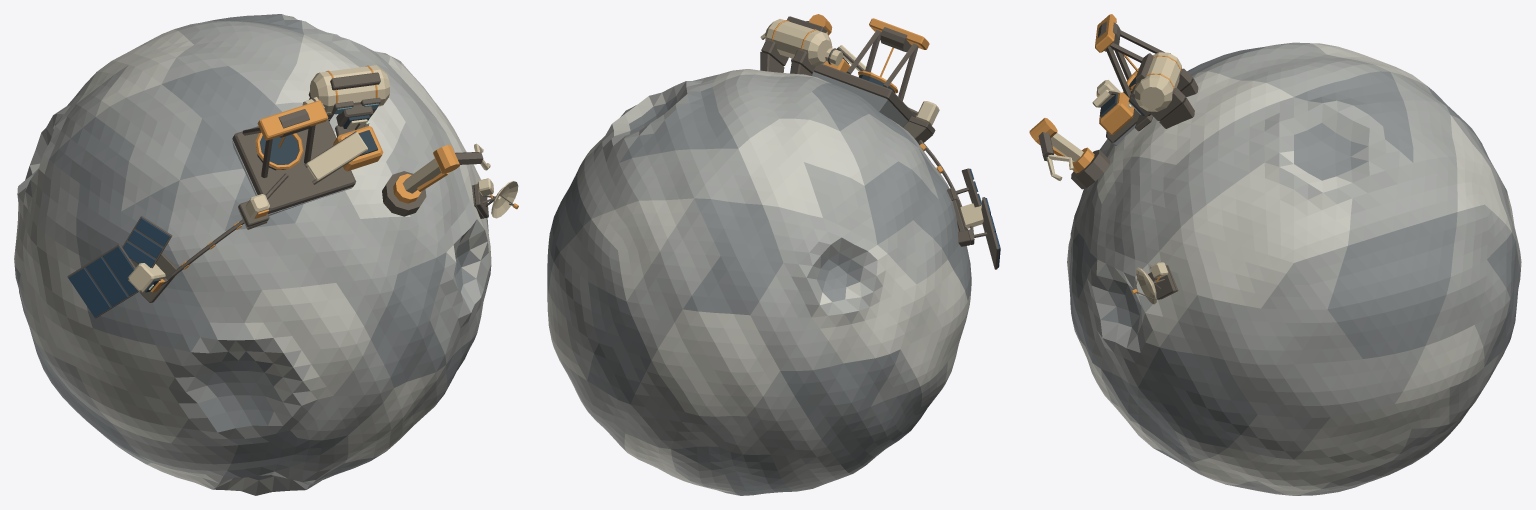
File: Moon.glb
The picture shows the model from 3 angles, left to right: view 1: azimuth 30°, elevation 25°; view 2: azimuth 150°, elevation 25°; view 3: azimuth 270°, elevation 25°; orthographic projection. The views are drawn at different scales.
Visible parts, largest first — view 1: S2_Moon • modeled surfaces; view 2: S2_Moon • modeled surfaces; view 3: S2_Moon • modeled surfaces.
Boxes of the visible parts, x1,y1,x2,y2 form: S2_Moon • modeled surfaces: (14,14,518,495); S2_Moon • modeled surfaces: (547,14,1000,495); S2_Moon • modeled surfaces: (1029,14,1521,495).
Bounding box in the file's own units: 1.73 × 1.71 × 1.79.
